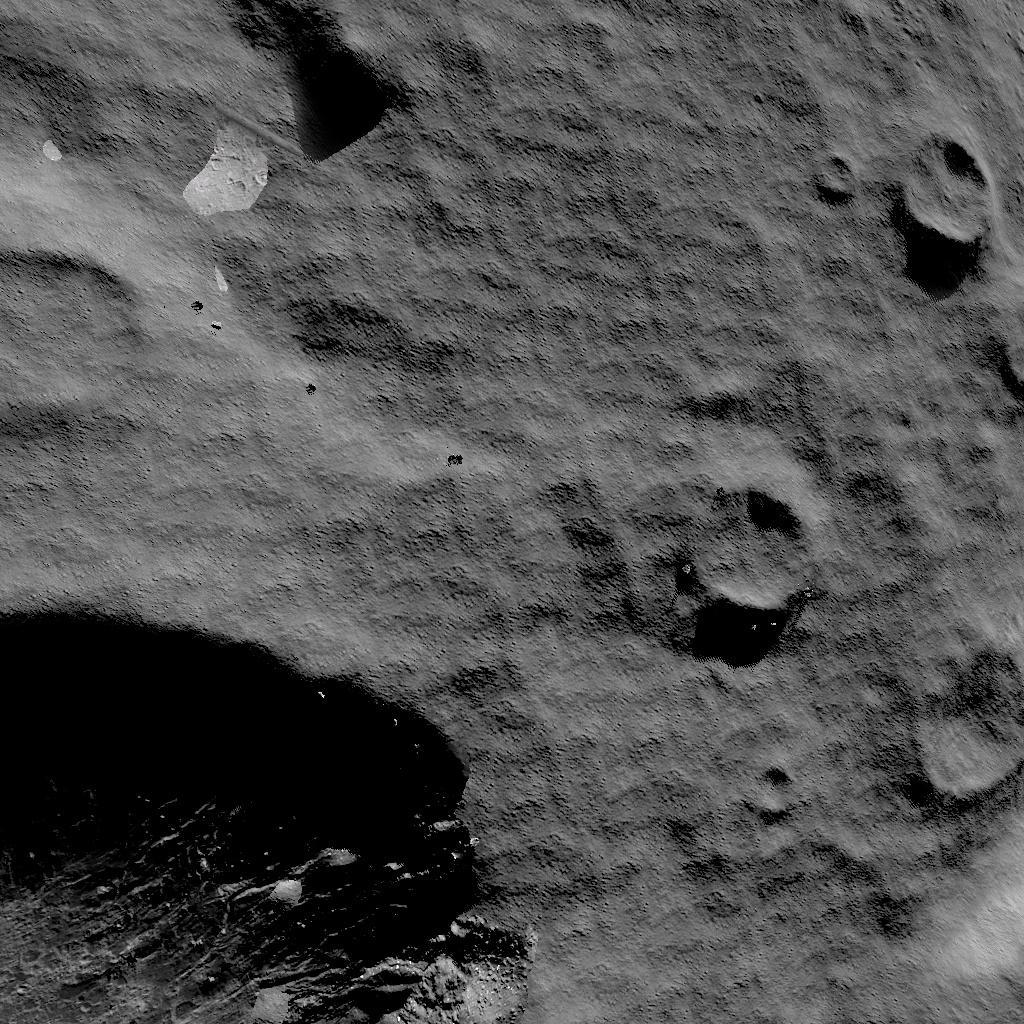Boulders: (174, 112, 285, 218)
Crater: (0, 510, 527, 1024), (0, 228, 143, 434), (670, 466, 825, 632), (866, 649, 1024, 806), (901, 108, 1016, 286), (736, 746, 799, 814), (810, 126, 863, 204)
Plan surface: (428, 0, 785, 276), (546, 830, 953, 1024)
